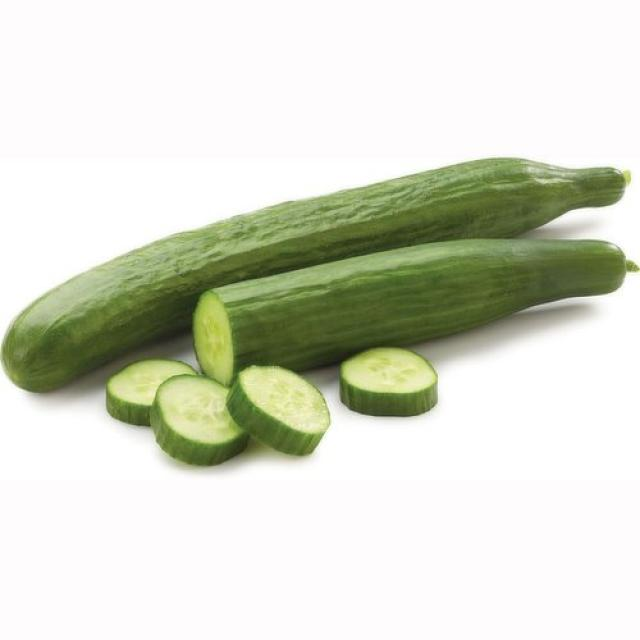Pickle: (1, 158, 625, 391), (192, 239, 629, 383), (228, 365, 330, 454), (150, 375, 249, 464), (340, 348, 438, 416), (108, 359, 196, 426)
